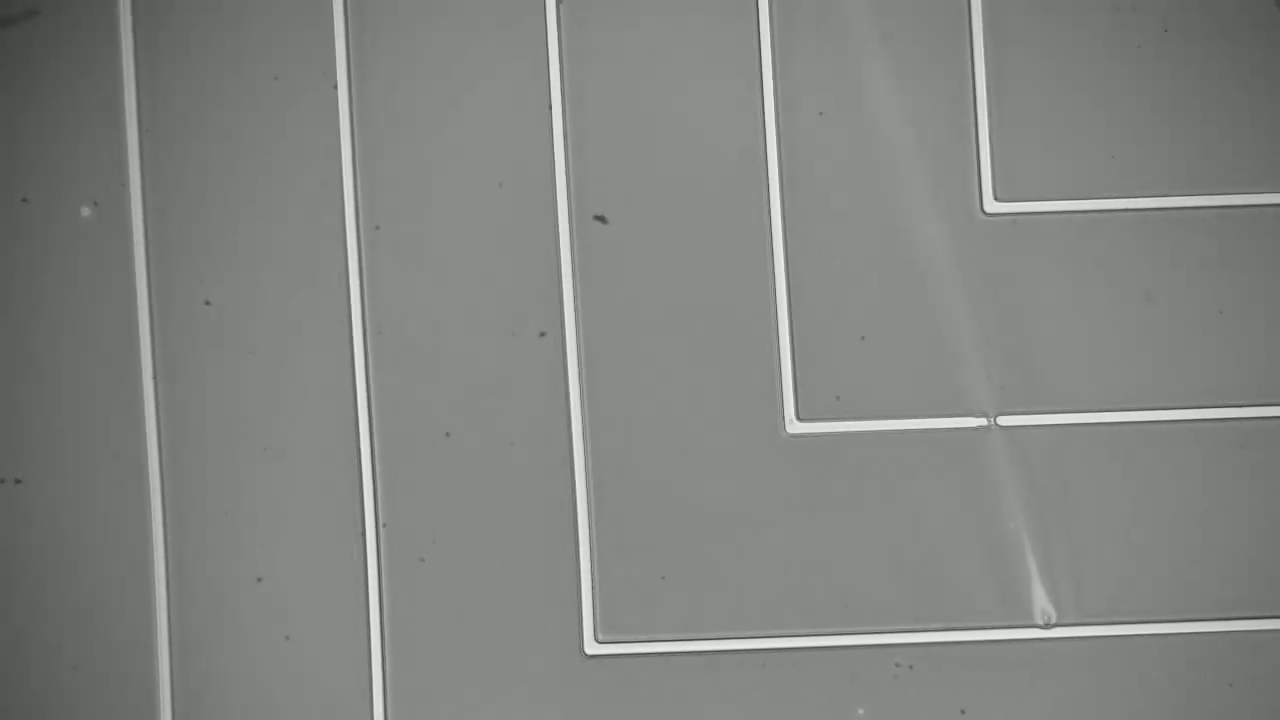open: (975, 403, 1014, 436)
